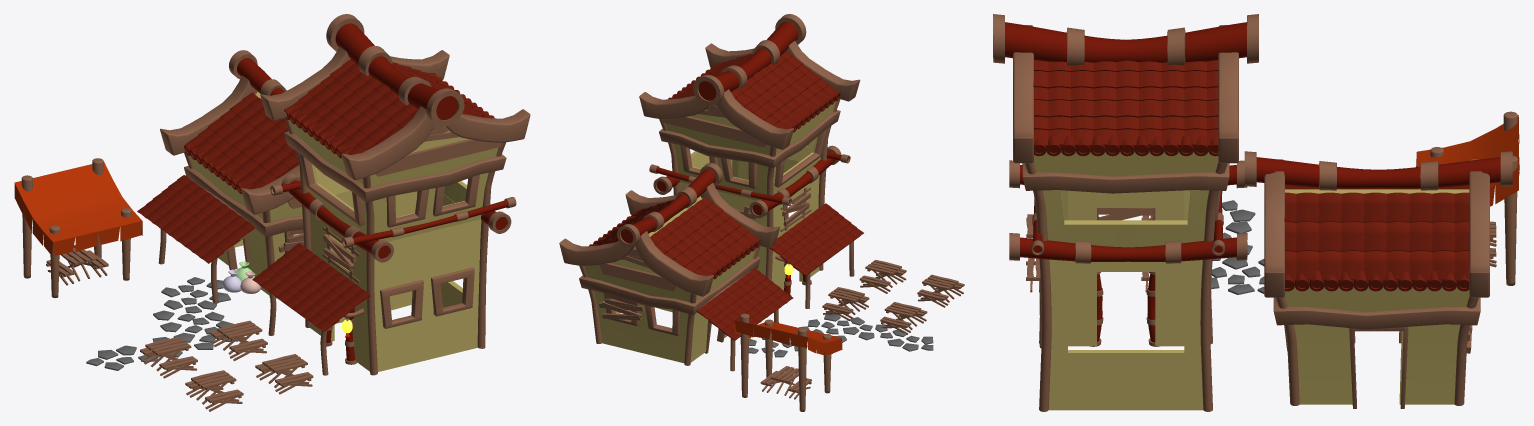
The picture shows the model from 3 angles, left to right: view 1: azimuth 30°, elevation 25°; view 2: azimuth 150°, elevation 25°; view 3: azimuth 270°, elevation 25°; orthographic projection. The views are drawn at different scales.
Visible parts, largest first — view 1: Cube.082; view 2: Cube.082; view 3: Cube.082.
Boxes of the visible parts, x1=… form: Cube.082: x1=14, y1=14, x2=530, y2=411; Cube.082: x1=559, y1=14, x2=964, y2=411; Cube.082: x1=993, y1=14, x2=1519, y2=411.
Bounding box in the file's own units: 235 × 179 × 236.
